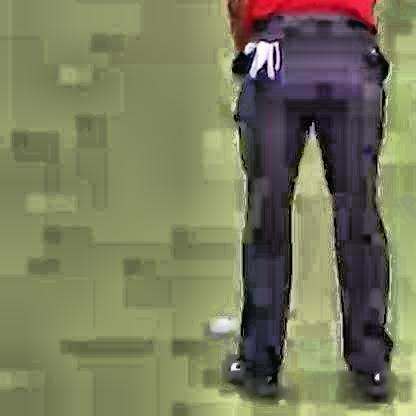golfball: (206, 314, 229, 334)
